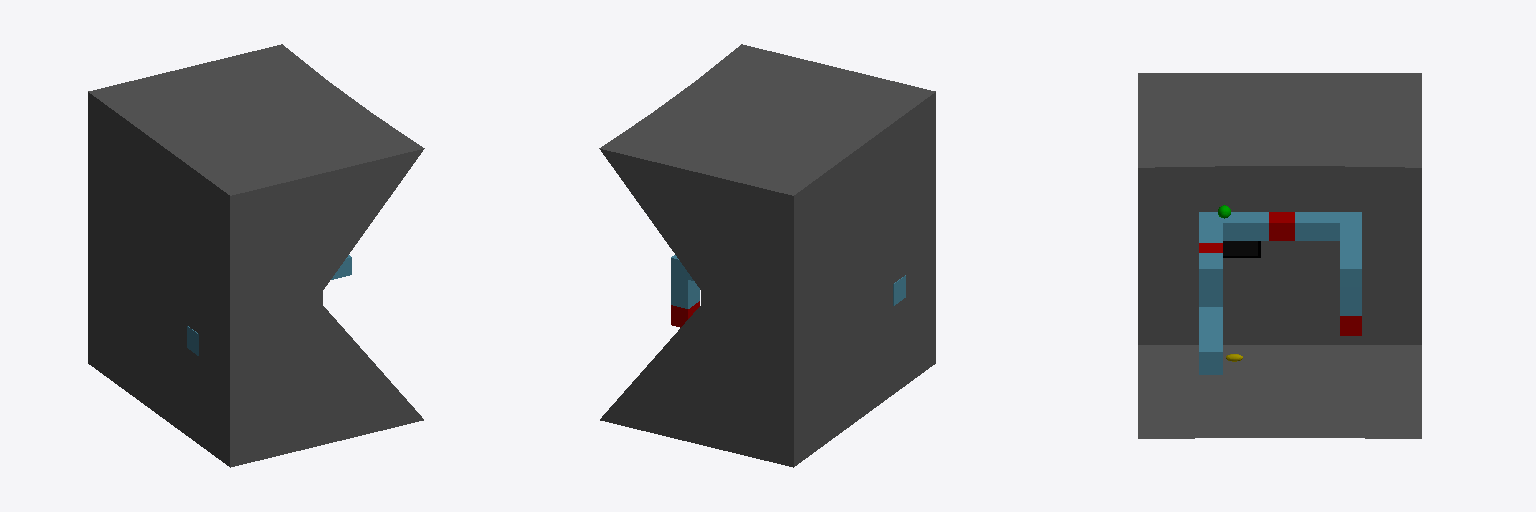
File: SpaceDuck_Level_2.obj
3 views of the same model, side by side, from view 1: azimuth 30°, elevation 25°; view 2: azimuth 150°, elevation 25°; view 3: azimuth 270°, elevation 25° (orthographic).
Parts seen in each view (by area): view 1: Cube.008_Cube.015, Cube.007_Cube.014; view 2: Cube.008_Cube.015, Cube.007_Cube.014; view 3: Cube.008_Cube.015, Cube.007_Cube.014, Plane.002_Plane.004.
Part boxes in pixels (x1,y1,x2,y2): Cube.008_Cube.015: (88,44,424,467); Cube.007_Cube.014: (187,255,351,355); Cube.008_Cube.015: (599,44,935,467); Cube.007_Cube.014: (671,255,905,327); Cube.008_Cube.015: (1138,73,1421,438); Cube.007_Cube.014: (1199,212,1361,374); Plane.002_Plane.004: (1223,241,1260,257).
Size of the model in its own units: 13.07 by 17.39 by 16.53.